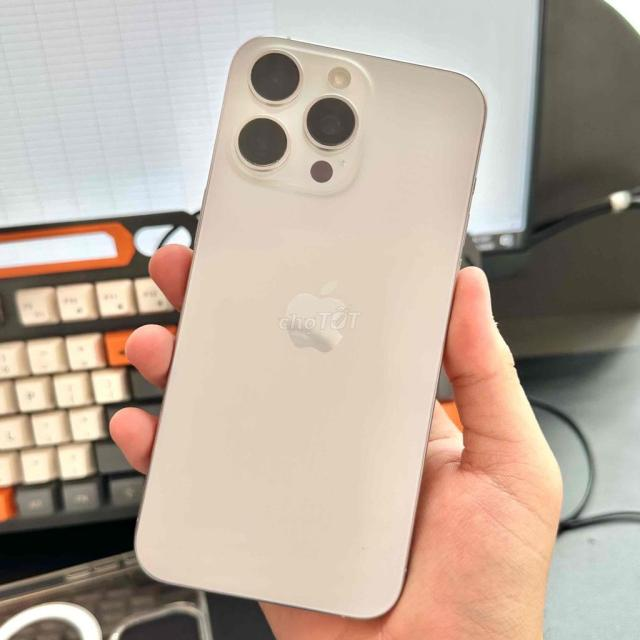scratch: (227, 110, 296, 177), (354, 540, 369, 554)
